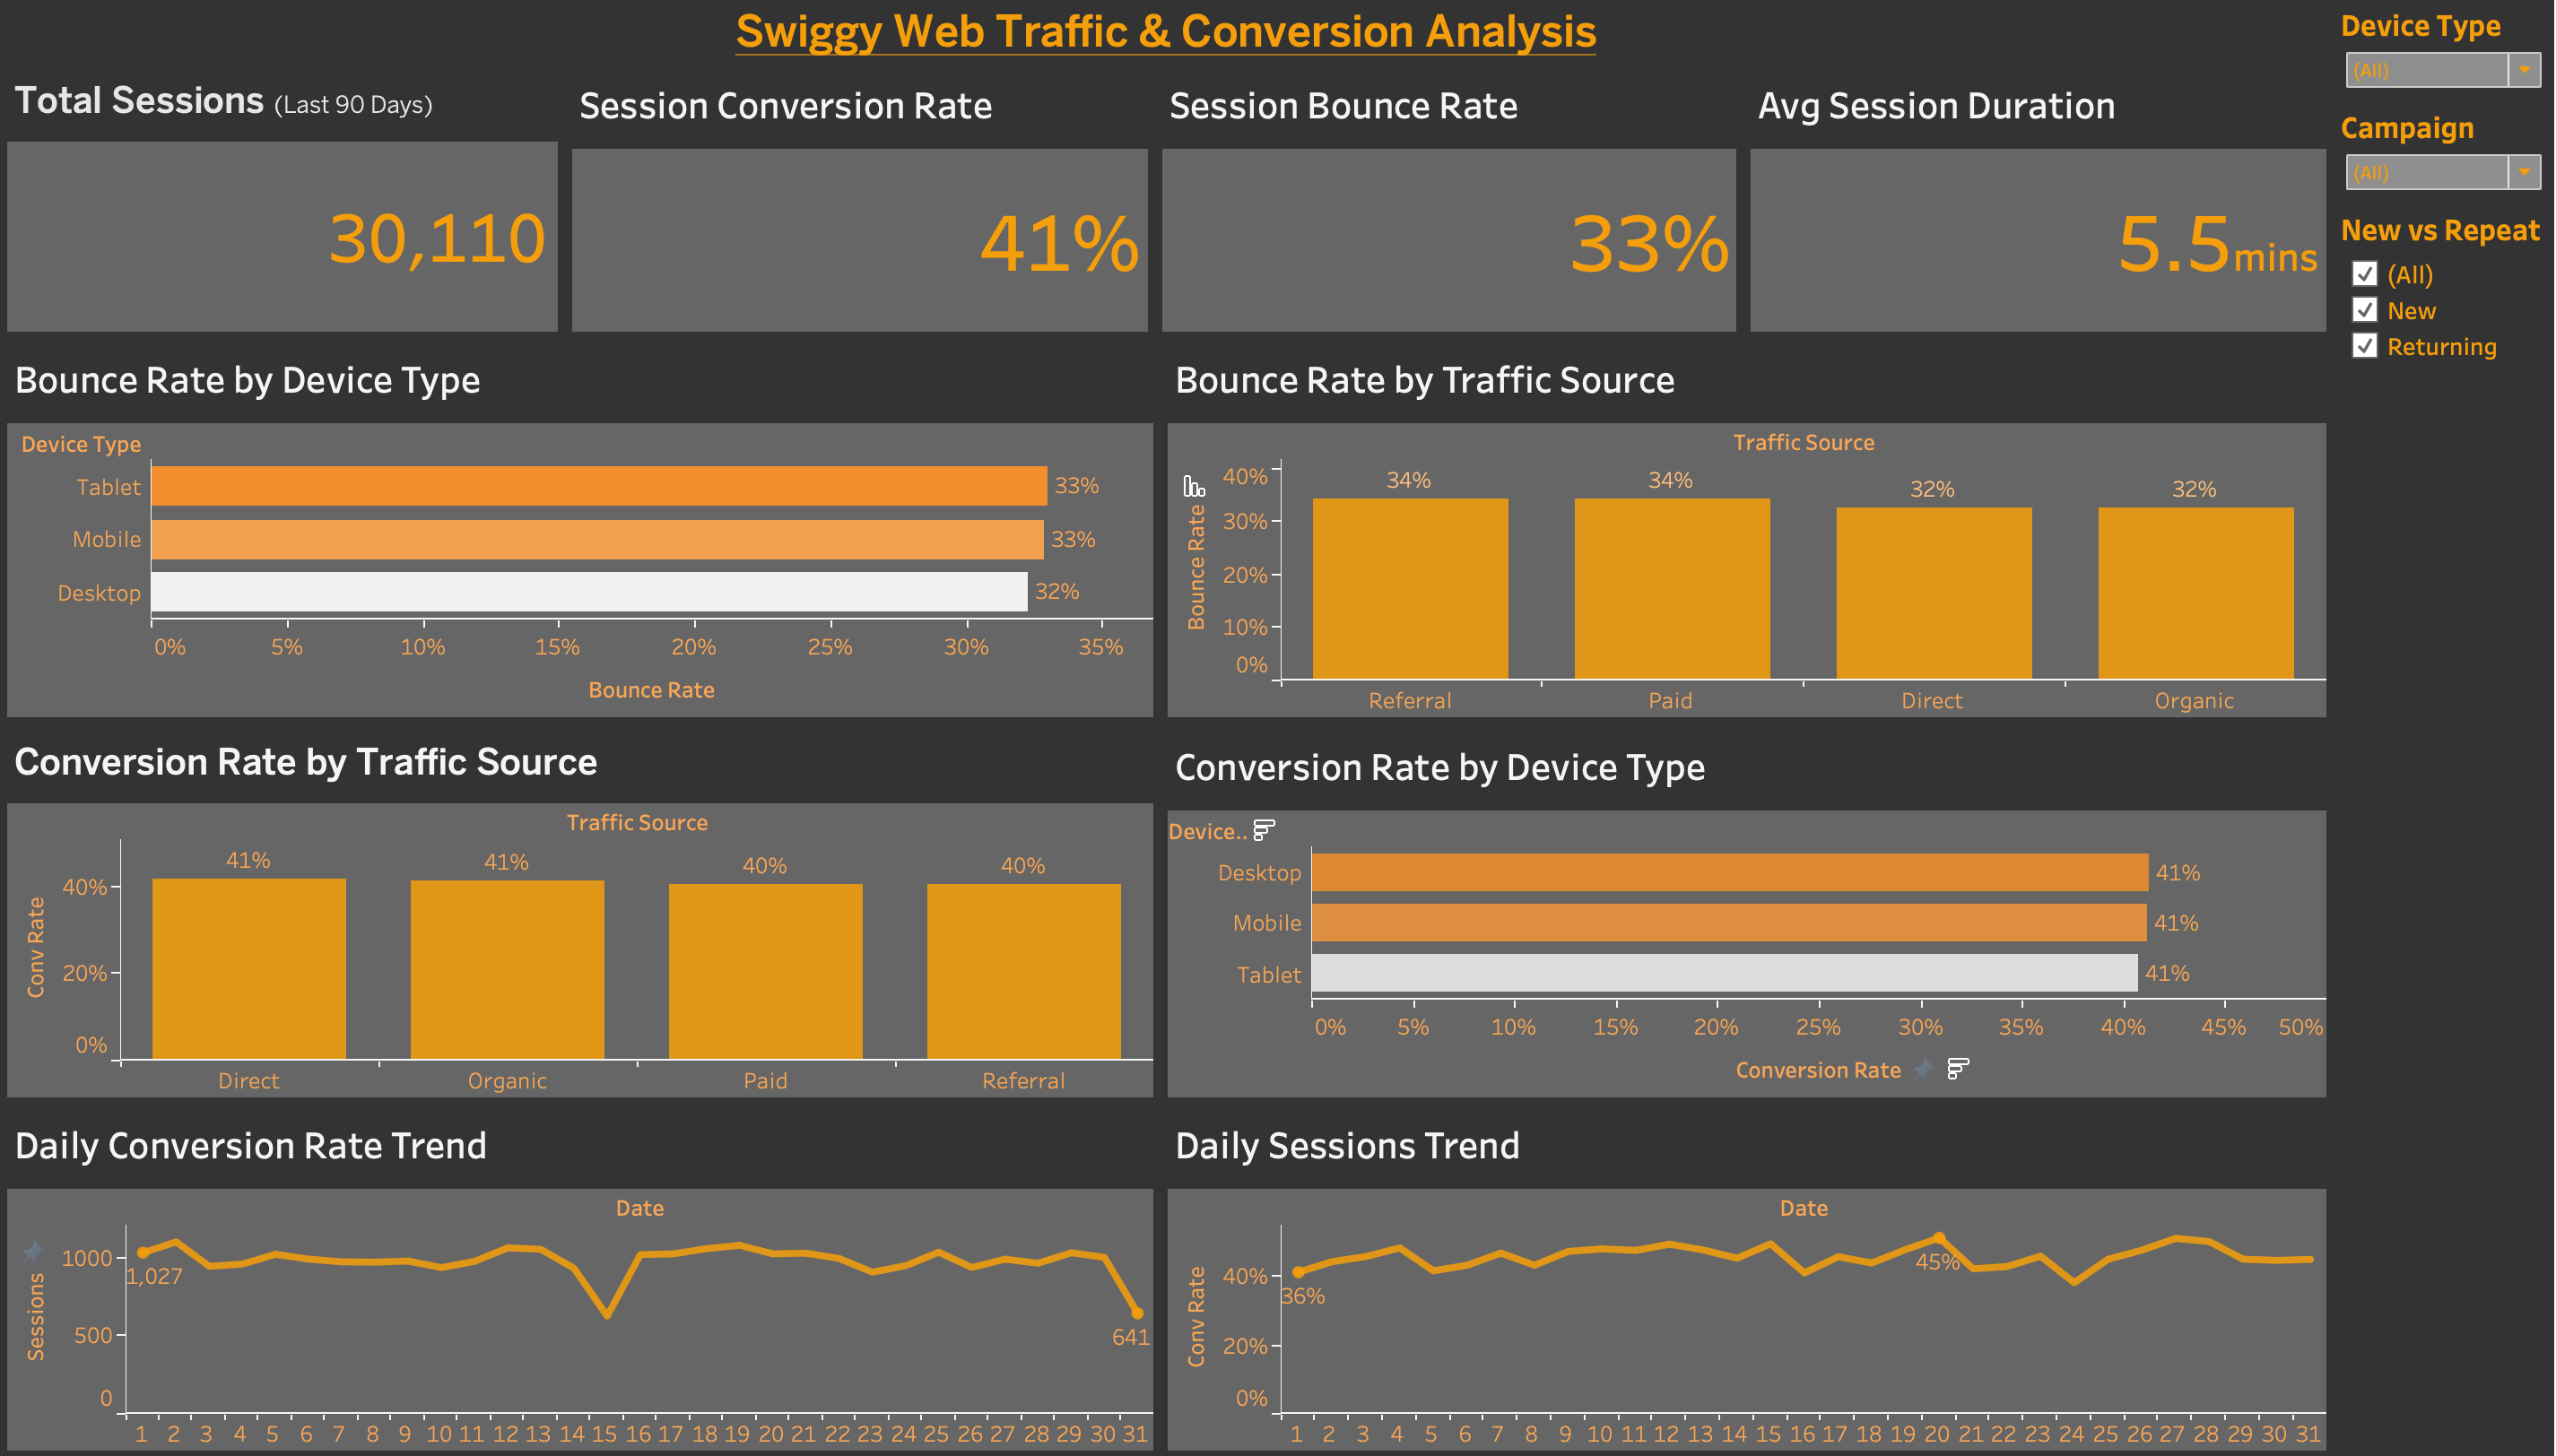

What the dashboard file says about the page in this screenshot:
{"tool":"tableau","page":{"name":"Dashboard 1","canvas":[1000,1000],"units":"permille","ordinal":0},"visuals":[{"type":"title","box":[5.8,11.2,899.6,51.8]},{"type":"filter","title":"Total Sessions","param":"[federated.1jr7bvl08o2w8a17rb1of0sh6wka].[none:Device Type:nk]","box":[905.4,11.2,88.8,79.8]},{"type":"worksheet","title":"Total Sessions","mark":"Automatic","box":[5.8,63,227.4,176.6]},{"type":"worksheet","title":"Conversion Rate","mark":"Automatic","box":[233.2,63,224.1,176.6]},{"type":"worksheet","title":"Bounce Rate","mark":"Automatic","box":[457.3,63,224.1,176.6]},{"type":"worksheet","title":"Avg Session Duration","mark":"Automatic","box":[681.3,63,224.1,176.6]},{"type":"filter","title":"Total Sessions","param":"[federated.1jr7bvl08o2w8a17rb1of0sh6wka].[none:Campaign:nk]","box":[905.4,91,88.8,79.8]},{"type":"filter","title":"Total Sessions","param":"[federated.1jr7bvl08o2w8a17rb1of0sh6wka].[none:New vs Returning Visitors:nk]","box":[905.4,170.9,88.8,135.8]},{"type":"worksheet","title":"Bounce Rate by Device Type","mark":"Bar","rows":["Device Type"],"cols":["Calculation_1173635198779393"],"box":[5.8,239.7,447.4,258.8]},{"type":"worksheet","title":"Bounce Rate by Traffic Source","mark":"Automatic","rows":["Calculation_1173635198779393"],"cols":["Traffic Source"],"box":[453.2,239.7,452.2,258.8]},{"type":"worksheet","title":"Traffic Source Analysis","mark":"Bar","rows":["Calculation_1173635197620224"],"cols":["Traffic Source"],"box":[5.8,498.5,447.4,253.5]},{"type":"worksheet","title":"Conversion Rate by Device Type","mark":"Automatic","rows":["Device Type"],"cols":["Calculation_1173635197620224"],"box":[453.2,498.5,452.2,253.5]},{"type":"worksheet","title":"Daily Conversion Rate Trend","mark":"Line","rows":["Sessions"],"cols":["Date"],"box":[5.8,752,447.6,236.8]},{"type":"worksheet","title":"Daily Sessions Trend","mark":"Automatic","rows":["Calculation_1173635223240709"],"cols":["Date"],"box":[453.4,752,452.1,236.8]}]}

Visuals, with their boxes on the dashboard's canvas, which has no fixed pixel size, in thousandths of its width and height (x1, y1, x2, y2). These are canvas units, not pixel positions in the 2556x1456 screenshot, which may show the page scaled, cropped or inside an application window:
title: l=6, t=11, r=905, b=63
"Total Sessions" filter: l=905, t=11, r=994, b=91
"Total Sessions" worksheet: l=6, t=63, r=233, b=240
"Conversion Rate" worksheet: l=233, t=63, r=457, b=240
"Bounce Rate" worksheet: l=457, t=63, r=681, b=240
"Avg Session Duration" worksheet: l=681, t=63, r=905, b=240
"Total Sessions" filter: l=905, t=91, r=994, b=171
"Total Sessions" filter: l=905, t=171, r=994, b=307
"Bounce Rate by Device Type" worksheet (Bar marks): l=6, t=240, r=453, b=498
"Bounce Rate by Traffic Source" worksheet: l=453, t=240, r=905, b=498
"Traffic Source Analysis" worksheet (Bar marks): l=6, t=498, r=453, b=752
"Conversion Rate by Device Type" worksheet: l=453, t=498, r=905, b=752
"Daily Conversion Rate Trend" worksheet (Line marks): l=6, t=752, r=453, b=989
"Daily Sessions Trend" worksheet: l=453, t=752, r=906, b=989
